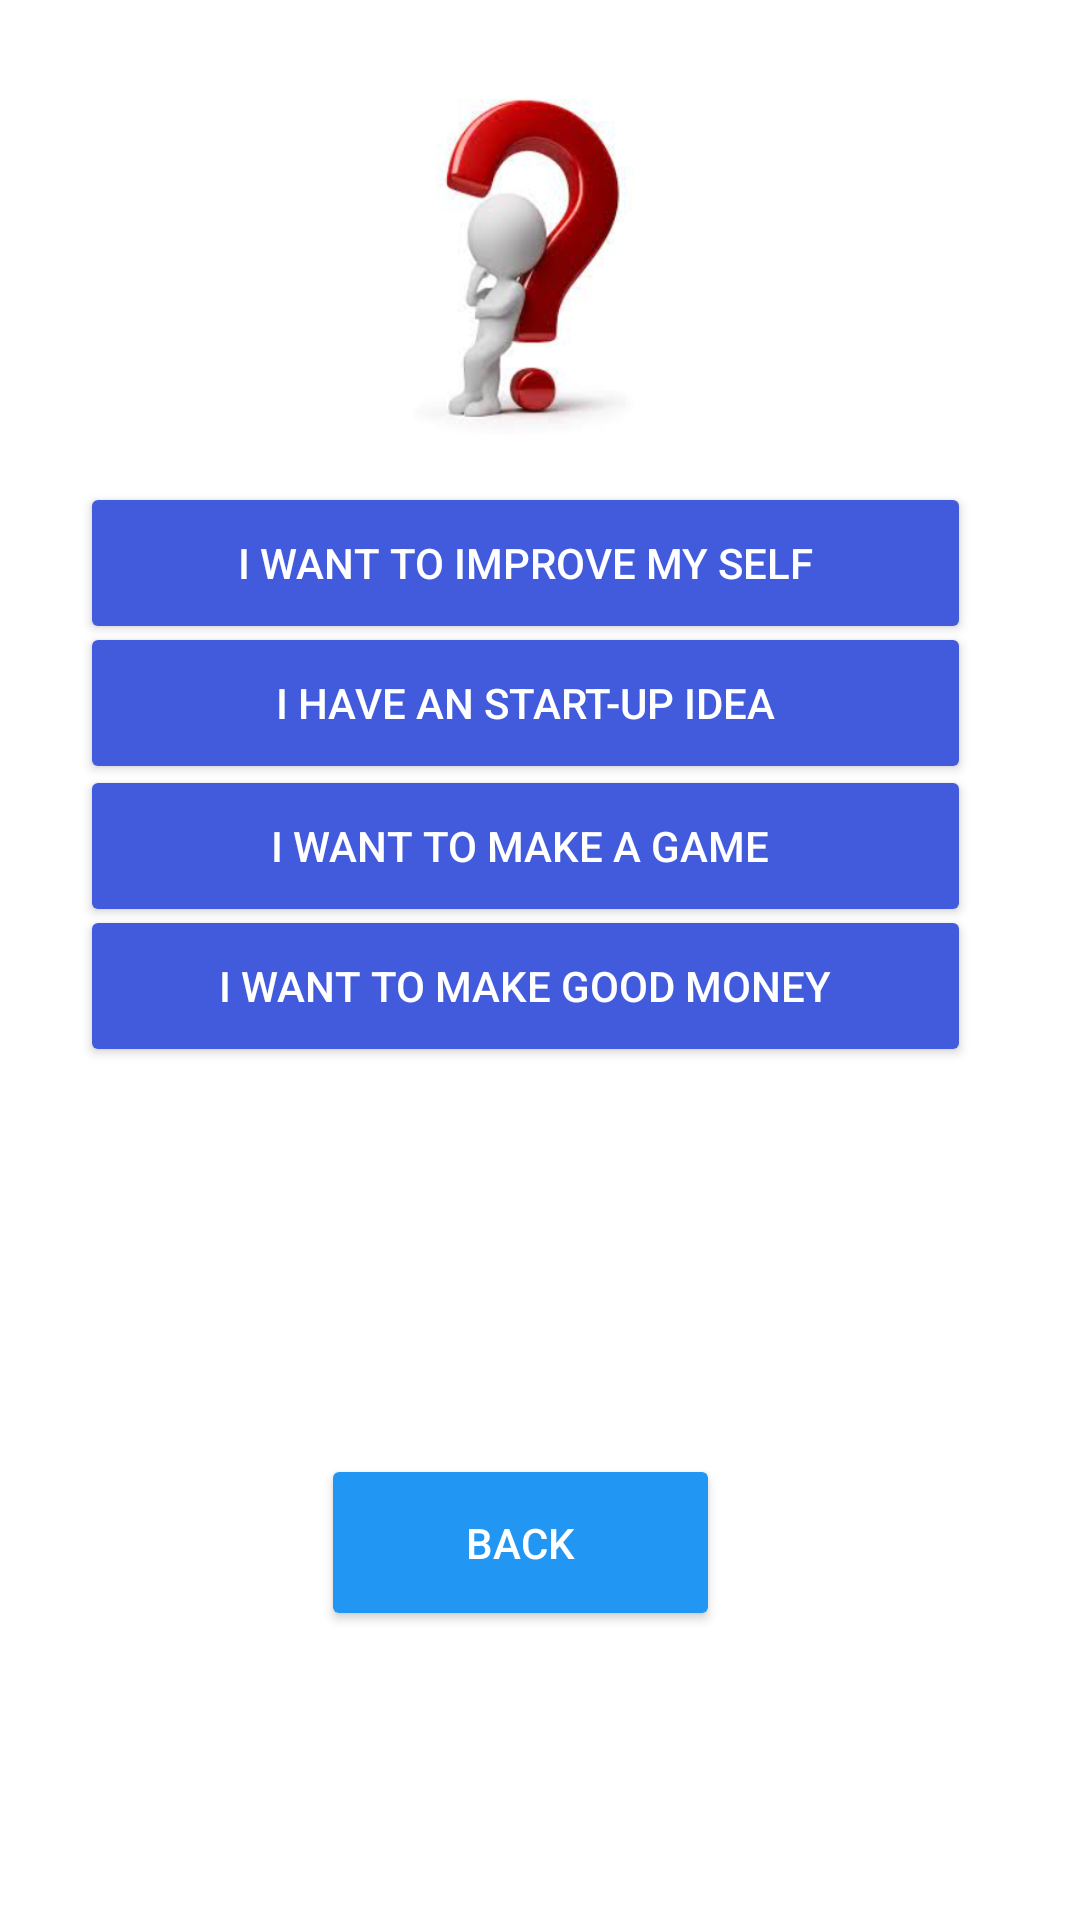

Screen size 1080 × 1920. Icon name, then its center in pixels as point (x, y):
que: point (532, 258)
